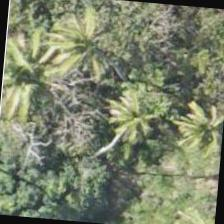Kelapa_Sawit: (73, 74, 171, 172), (42, 0, 140, 92), (0, 38, 84, 135), (163, 94, 223, 189)
